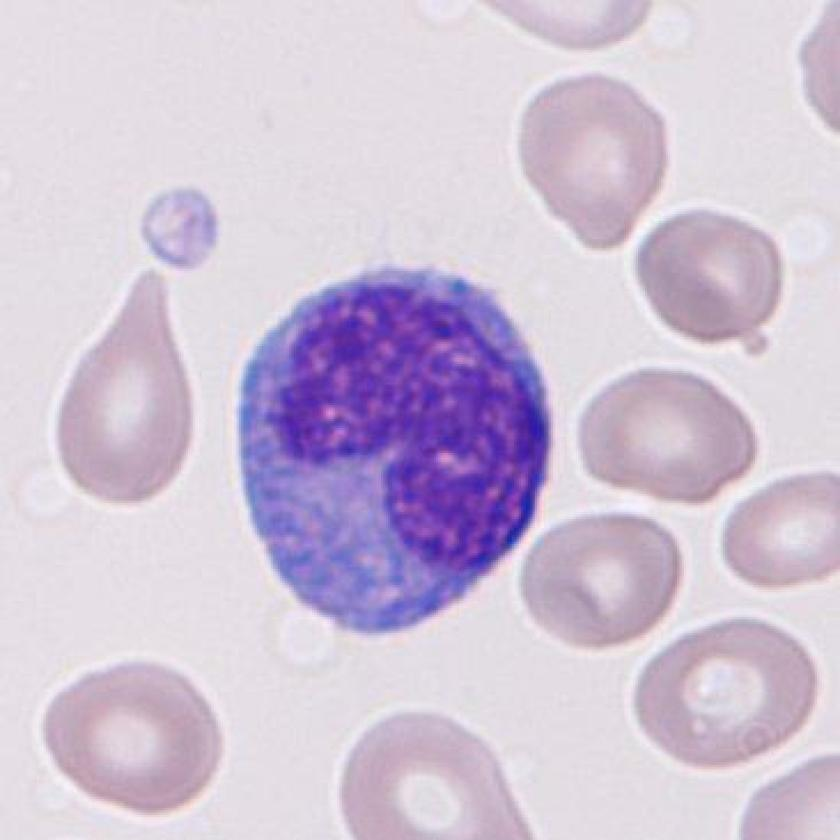monocyte: (219, 249, 570, 652)
